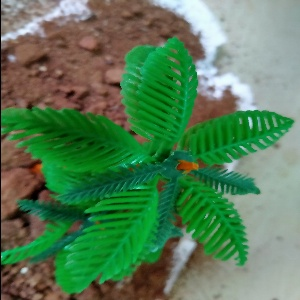plant: (4, 49, 295, 289)
